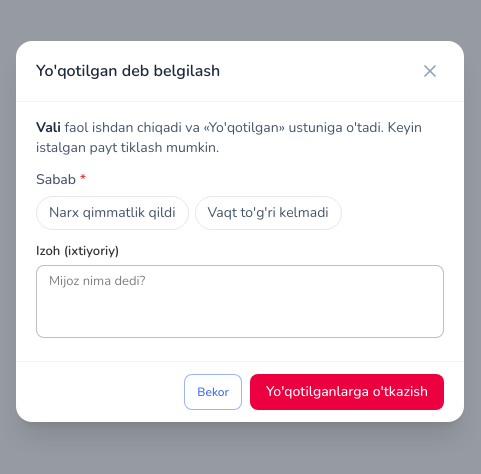
Test: LeadLostModal — sabab MAJBURIY › sababsiz tasdiqlanmaydi — so'rov YUBORILMAYDI, xato ko'rinadi
Click the button "Yo'qotilganlarga o'tkazish": {"x": 347, "y": 392} [250,374,444,410]
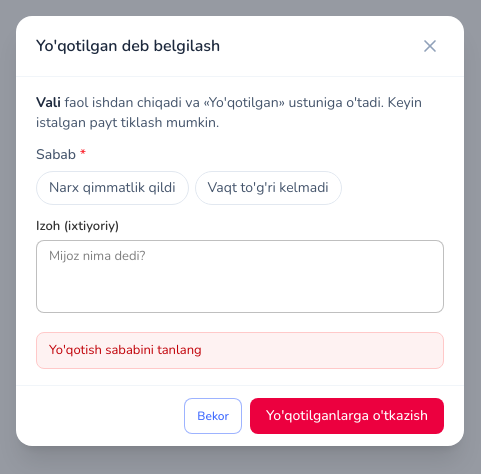
Now the text "sababini tanlang" is shown, box [49,341,202,359]
